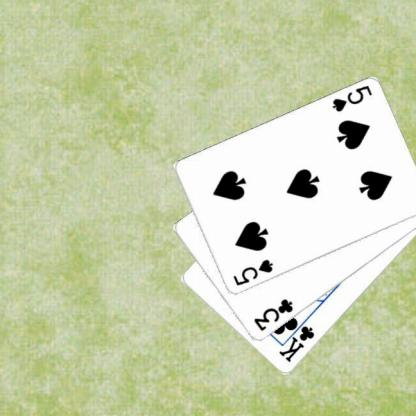3C: (250, 296, 295, 333)
5S: (230, 256, 274, 288), (329, 82, 373, 113)
KC: (276, 315, 316, 364)
